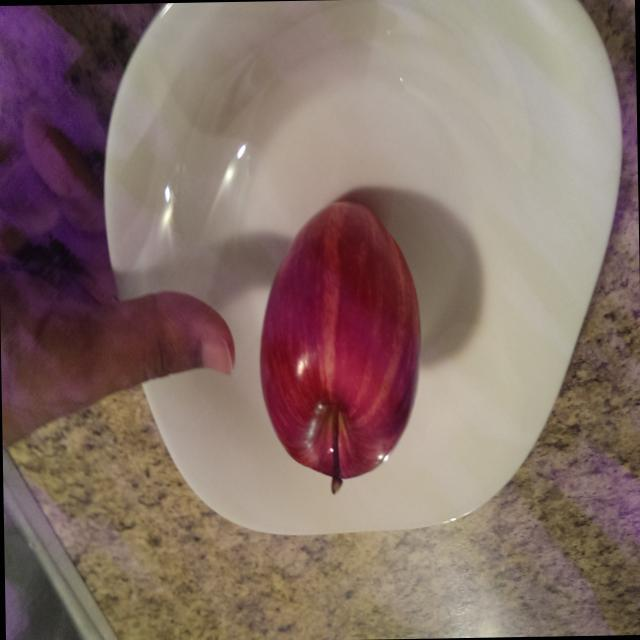Apple: (245, 182, 432, 504)
Finger: (144, 282, 242, 388)
